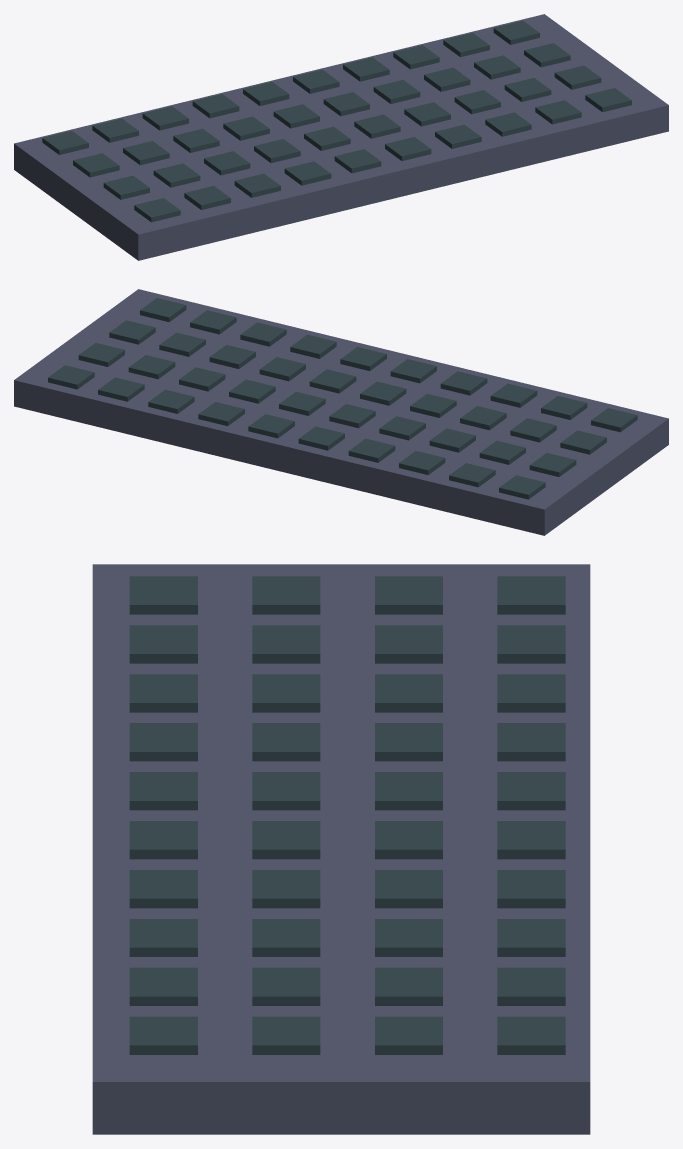
Rendered from 3keyboard.fbx.
3 renders of one model, top to bottom at view 1: azimuth 30°, elevation 25°; view 2: azimuth 150°, elevation 25°; view 3: azimuth 270°, elevation 25°, orthographic. The views are drawn at different scales.
Parts seen in each view (by area): view 1: 3keyboard; view 2: 3keyboard; view 3: 3keyboard.
Part boxes in pixels (x1,y1,x2,y2): 3keyboard: (14,14,668,260); 3keyboard: (14,289,668,535); 3keyboard: (92,564,590,1134).
Bounding box in the file's own units: 16.06 × 0.8986 × 6.53.
